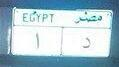1: (32, 32, 43, 52)
daal: (80, 35, 93, 50)
